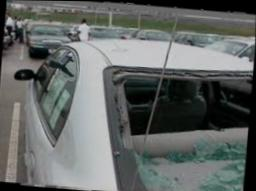Fender: (32, 116, 93, 184)
Windshield: (102, 67, 255, 191)
